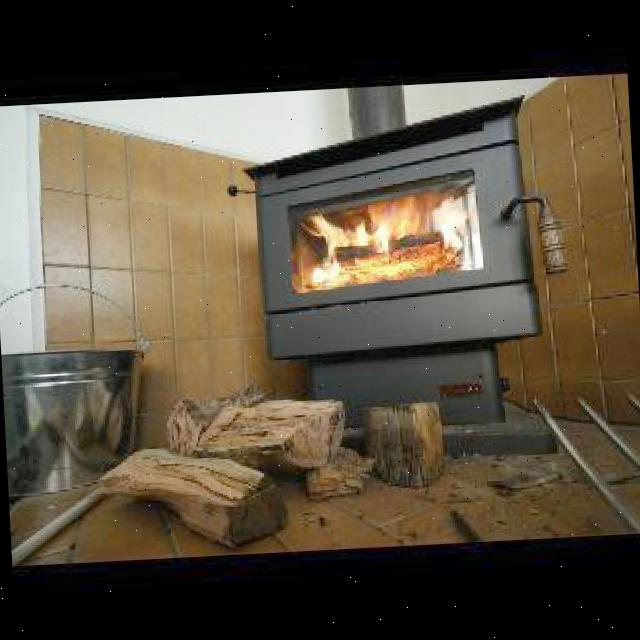fire: (290, 194, 462, 286)
